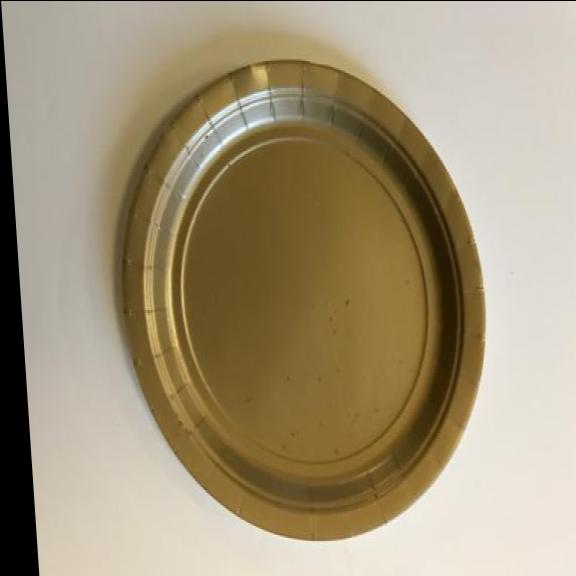Kertas: (96, 46, 513, 554)
